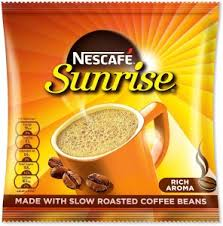nescafe-classic/gold-small: (1, 1, 222, 222)
